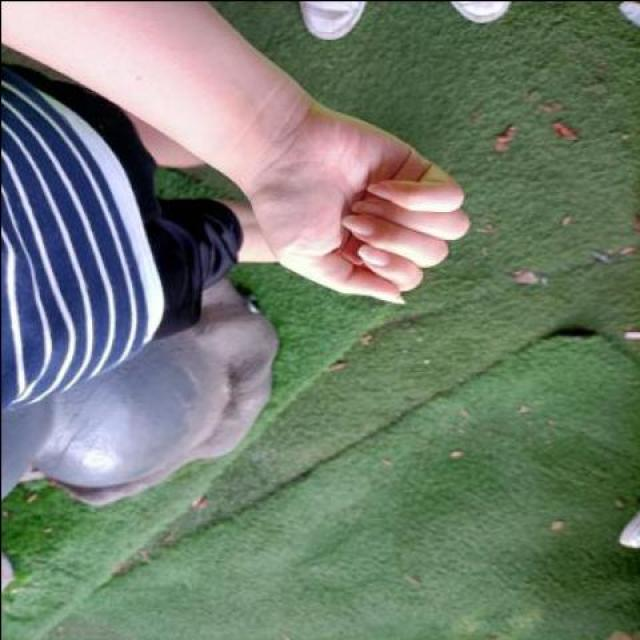Closed Hand: (236, 88, 471, 305)
